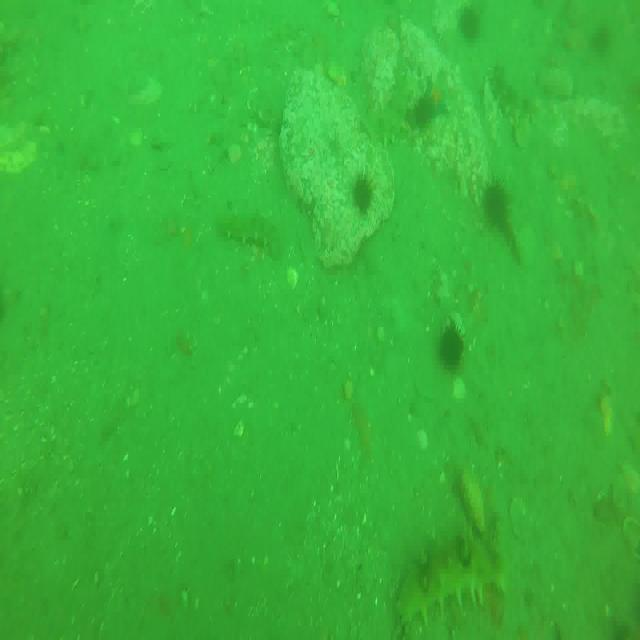echinus: (436, 324, 465, 376), (484, 179, 511, 228), (355, 173, 376, 219), (460, 4, 484, 40), (408, 93, 431, 127)
holothurian: (397, 537, 504, 629), (219, 208, 281, 260), (366, 73, 412, 143), (490, 64, 534, 125)
starfish: (422, 80, 452, 118)
